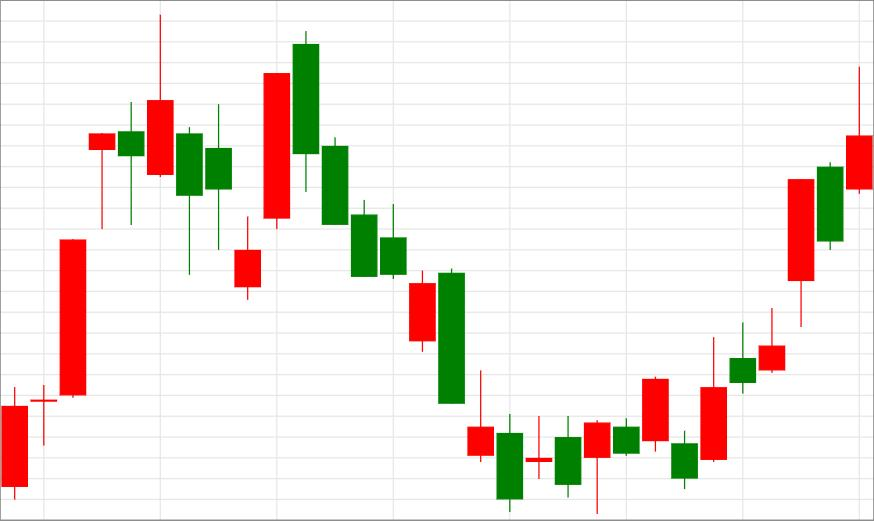three_black_crows_fall: (235, 31, 378, 300)
